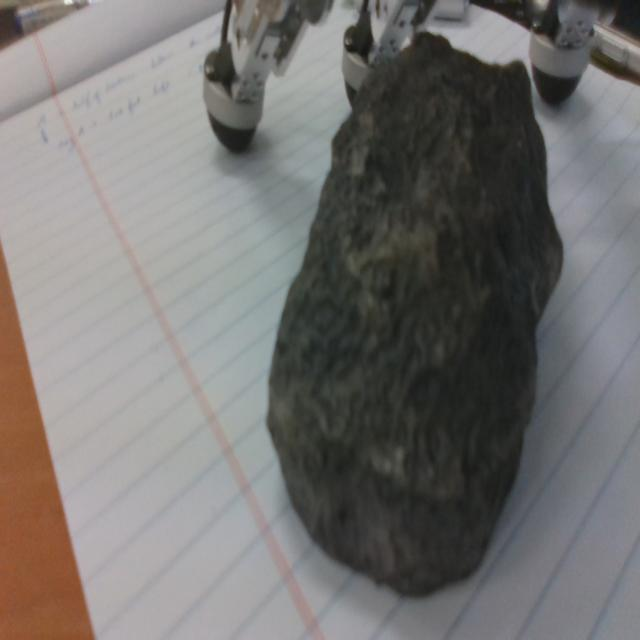stone: (264, 29, 565, 597)
